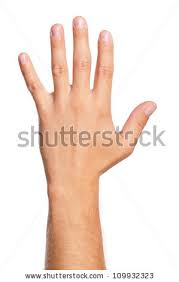hand: (11, 14, 159, 189)
